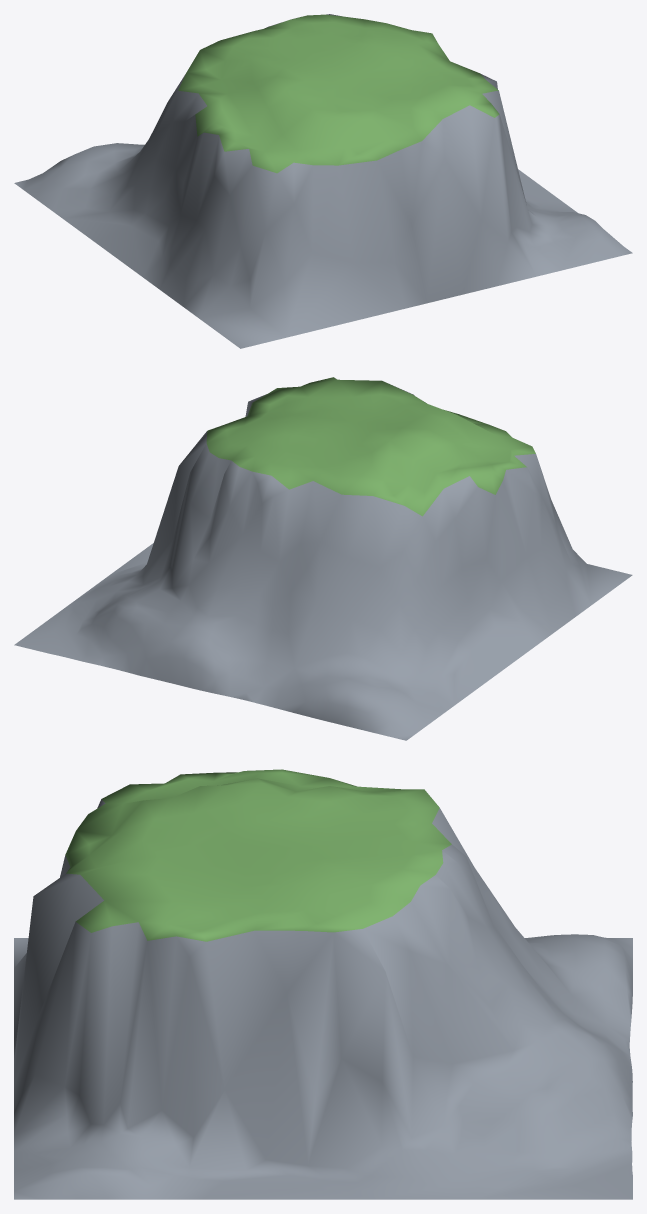
Rendered from SM_Cliffs_06.obj.
3 views of the same model, one above another, from view 1: azimuth 30°, elevation 25°; view 2: azimuth 150°, elevation 25°; view 3: azimuth 270°, elevation 25° (orthographic). The views are drawn at different scales.
Visible parts, largest first — view 1: SM_Cliffs_06; view 2: SM_Cliffs_06; view 3: SM_Cliffs_06.
Part boxes in pixels (box(x1,y1,x2,y2)): SM_Cliffs_06: box(14, 14, 632, 348); SM_Cliffs_06: box(14, 377, 632, 740); SM_Cliffs_06: box(14, 769, 632, 1199).
Bounding box in the file's own units: 10.89 × 4.64 × 10.89.
Materials: 1 (1 with a texture image).
